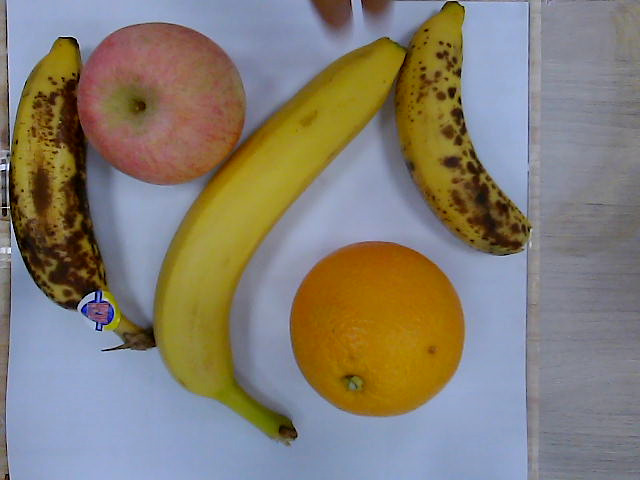fresh_apple: (78, 22, 246, 184)
fresh_banana: (156, 42, 400, 446)
fresh_orange: (291, 244, 465, 417)
rotten_banana: (11, 38, 152, 348), (395, 2, 528, 258)
